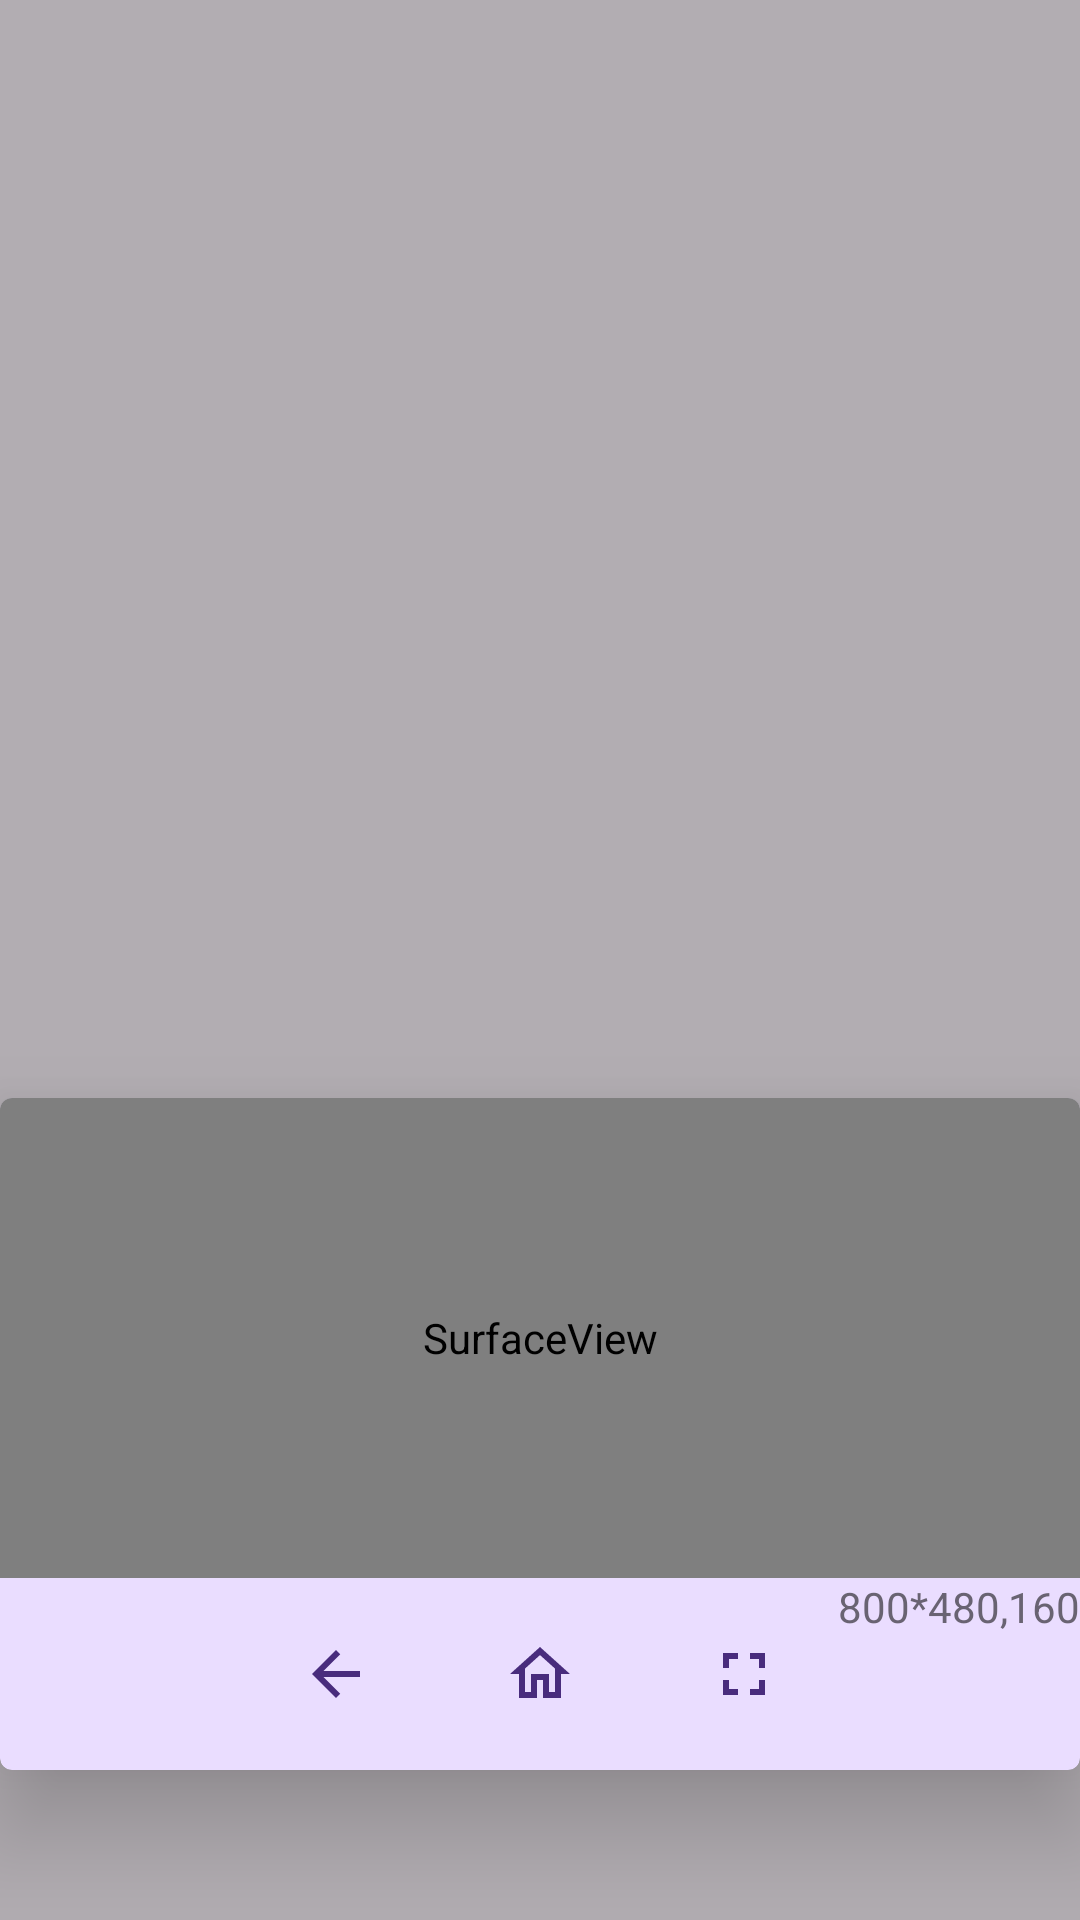

Screen size 1080*1920. Icon name, then its center in pixels as (x=x, y=y):
arrow back: (x=336, y=1674)
fullscreen: (x=744, y=1674)
home: (x=540, y=1672)
